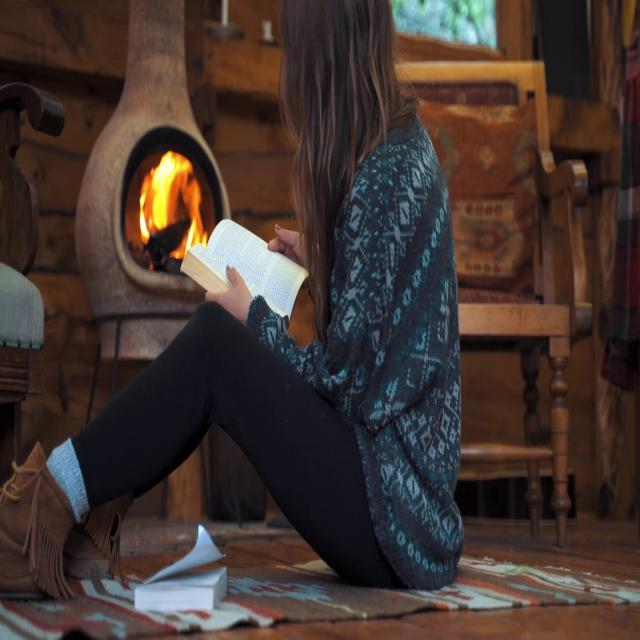Fire: (140, 148, 210, 258)
